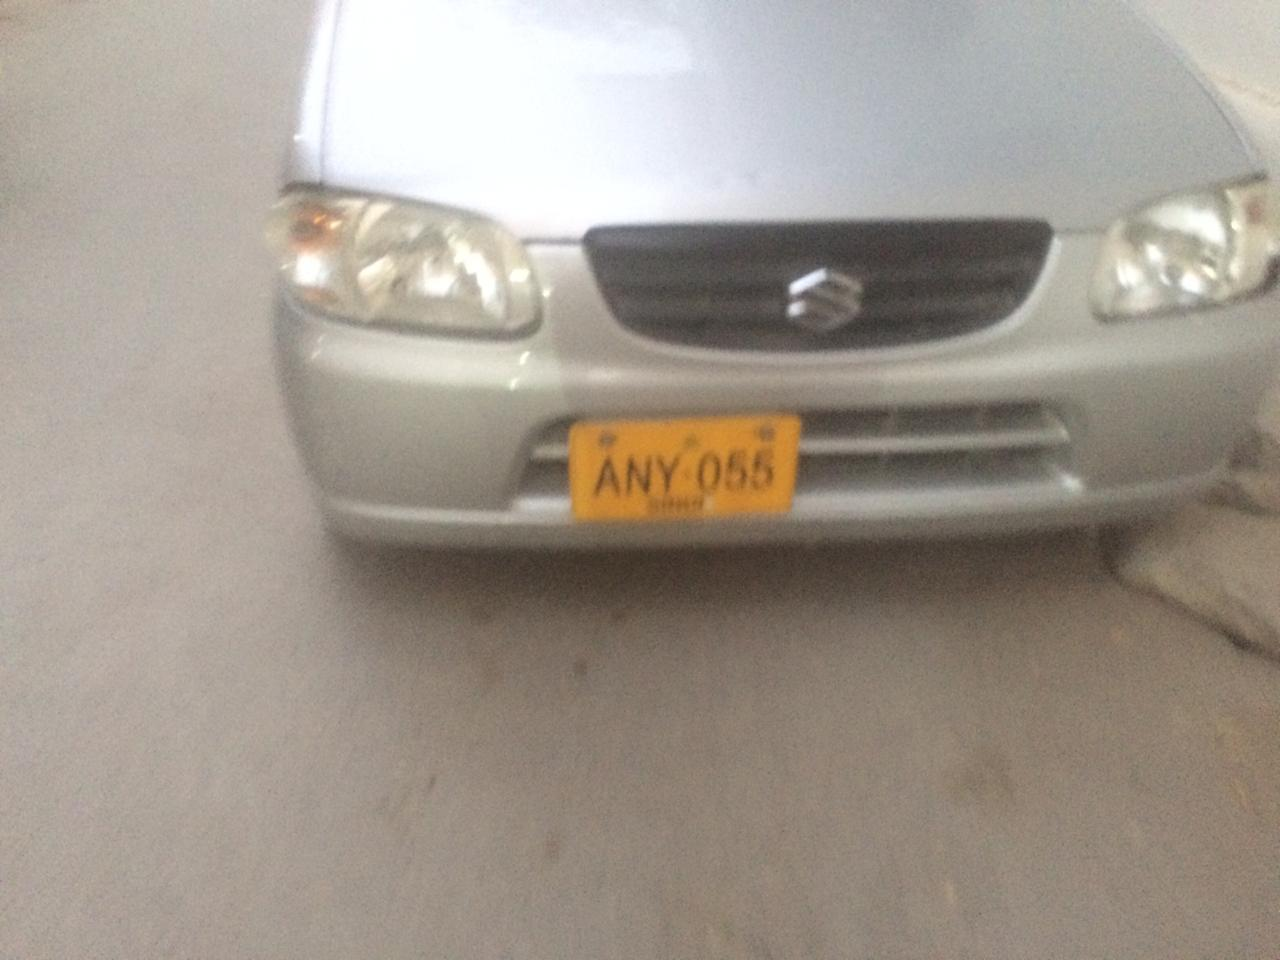license plate: (566, 419, 797, 518)
